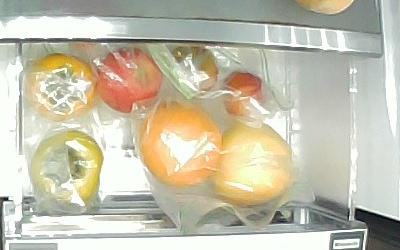apple_vinyl: (97, 49, 163, 113)
grapefruit_vinyl: (138, 103, 222, 187), (215, 120, 292, 207)
persimmon_vinyl: (30, 130, 104, 205), (27, 53, 96, 121)
prune_vinyl: (174, 47, 219, 97), (221, 71, 266, 116)
